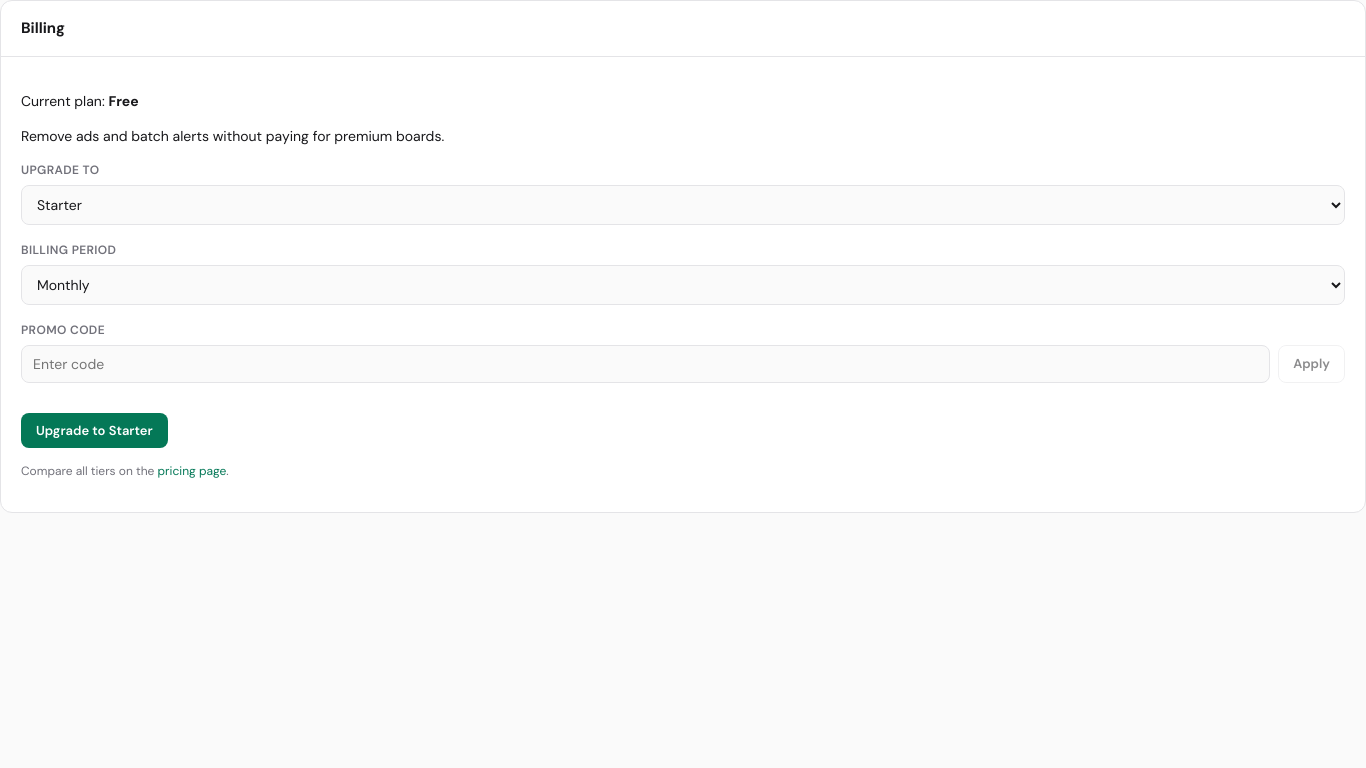
Test: SettingsBillingCard › shows a checkout error when it fails
The image size is (1366, 768).
Click the button "Upgrade to Starter": (94, 430) [21,412,168,448]
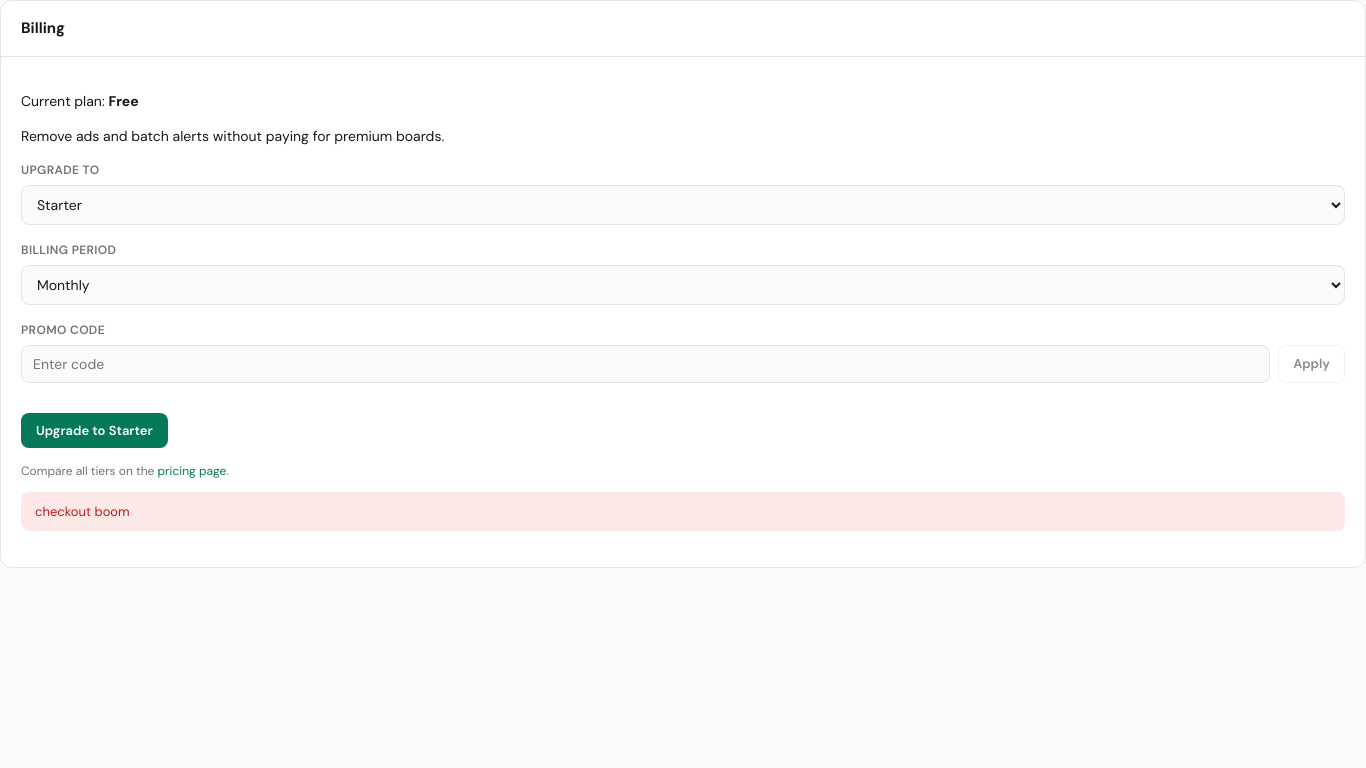
Check: the text "checkout boom" is shown, box [21,492,1345,531]
